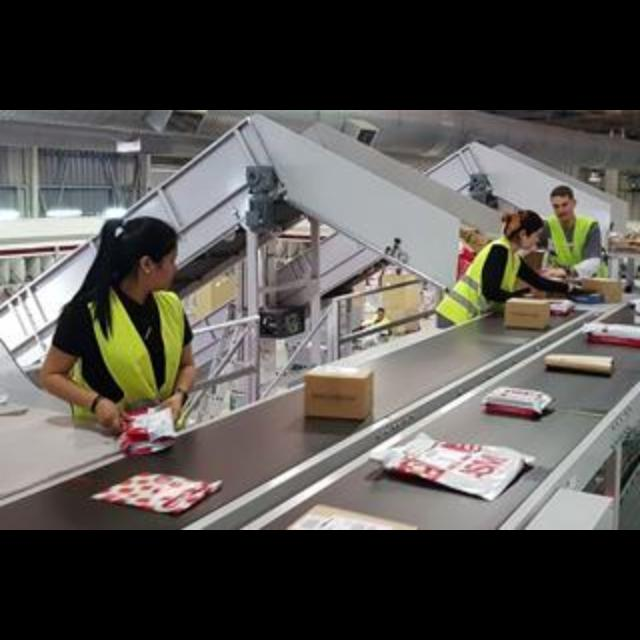box: (304, 364, 372, 418), (504, 298, 550, 328), (582, 278, 622, 302)
mailer: (372, 432, 532, 498), (92, 472, 220, 512), (482, 386, 550, 416), (582, 322, 638, 346), (550, 300, 574, 314)
